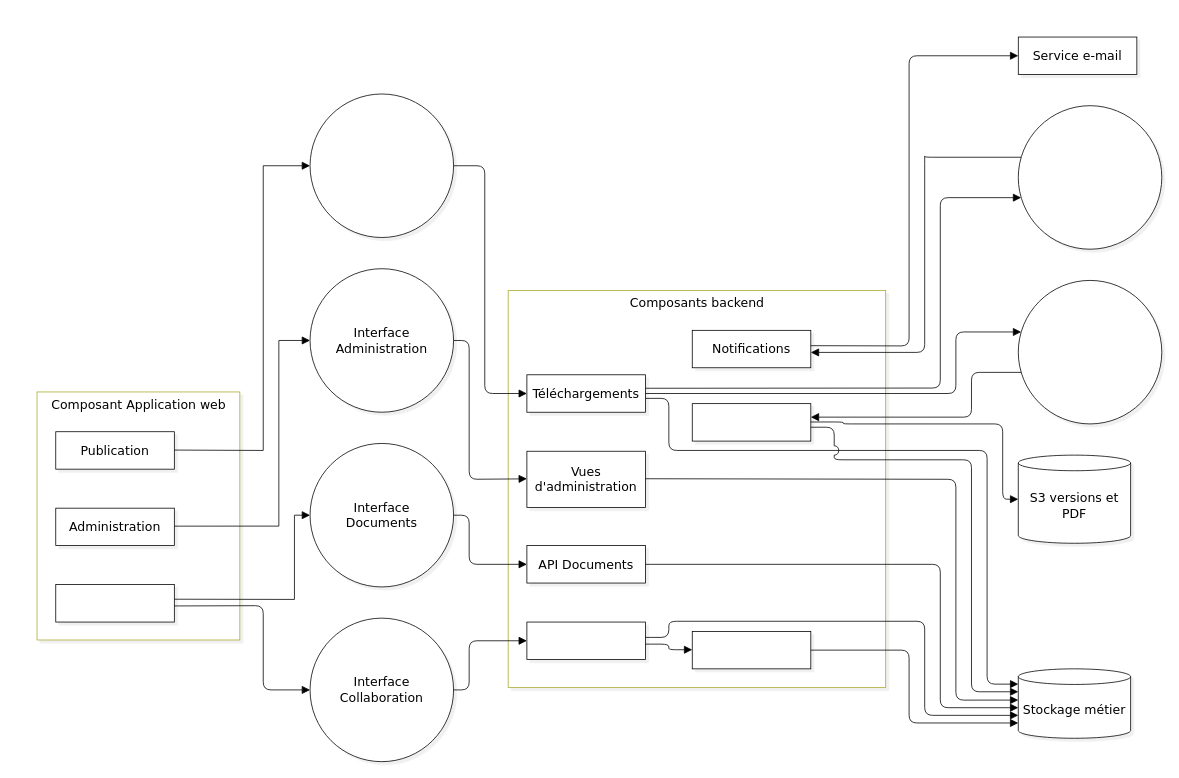
Some shapes in this 1179 by 778 pixel diagram are drawn without their labels. Here are the shapes that lost their labels. From the top down, the centre of each, then its label:
At point 383,167: "Interface Publication".
At point 1091,178: "Interface Notifications".
At point 1091,353: "Interface Travaux PDF".
At point 752,423: "Génération PDF".
At point 116,604: "Éditeur".
At point 587,642: "Collaboration".
At point 752,651: "Crédits et abus".
